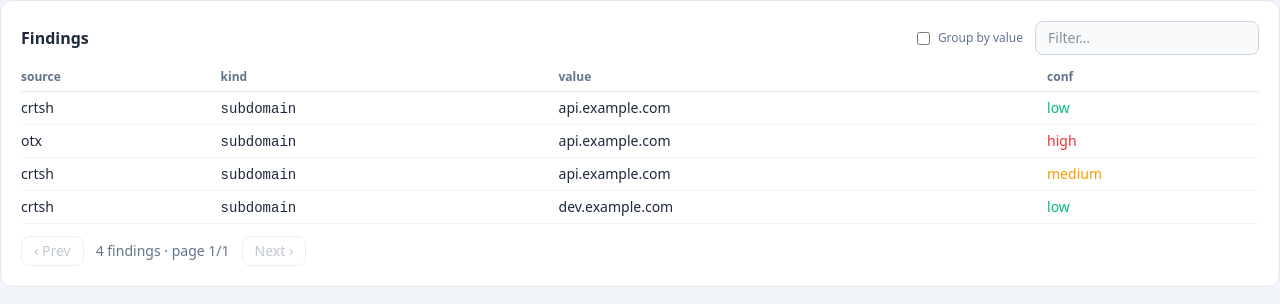
Test case: FindingsTable › groups findings by value and merges their sources
The image size is (1280, 304).
Step 1. Click the checkbox labelled "Group by value" → [923, 38], box [917, 32, 930, 44]
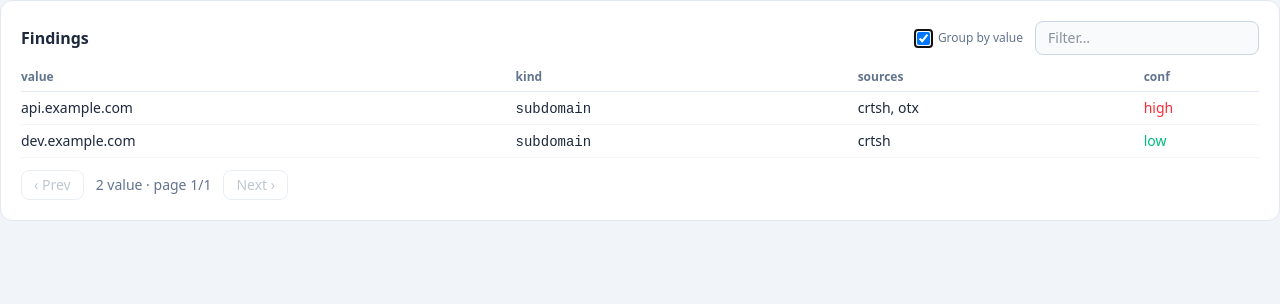
Expected: the text "api.example.com" is shown, [21, 92, 516, 124]
Now the text "crtsh, otx" is shown, box [858, 92, 1144, 124]
